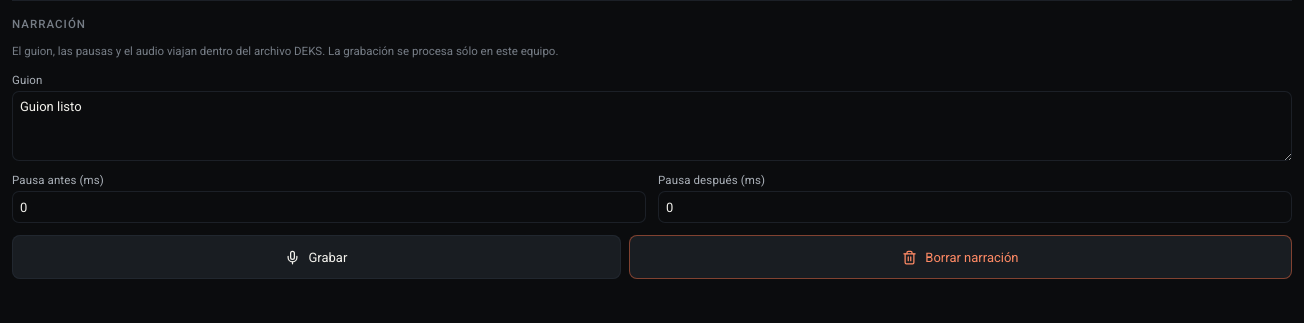
Scenario: autoría de narración por slide › cancela y descarta la toma al cambiar de slide
This screenshot has width=1304, height=323.
Click the button "Grabar": [316, 257] box top-left (12, 235), bottom-right (621, 279)
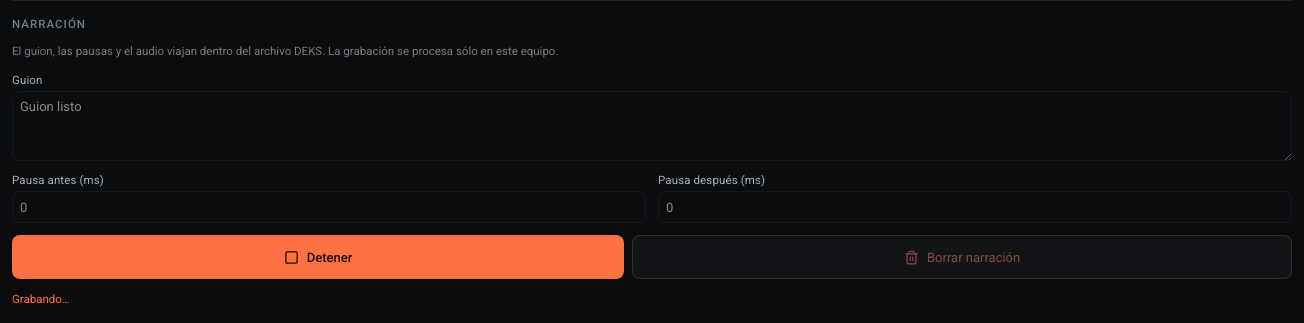
Result: the message shows "Grabando" at top-left (12, 292), bottom-right (70, 306)
